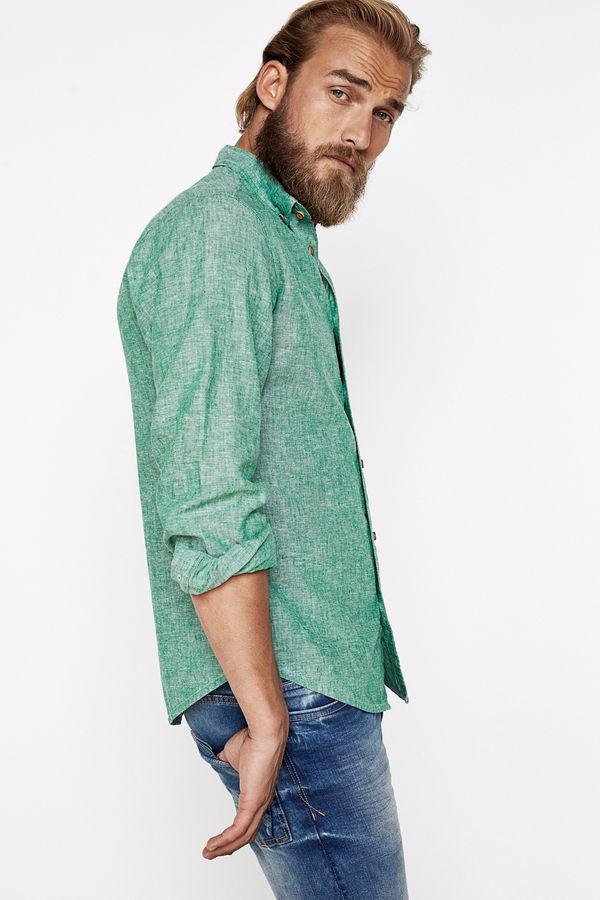teeshirt: (107, 143, 453, 723)
